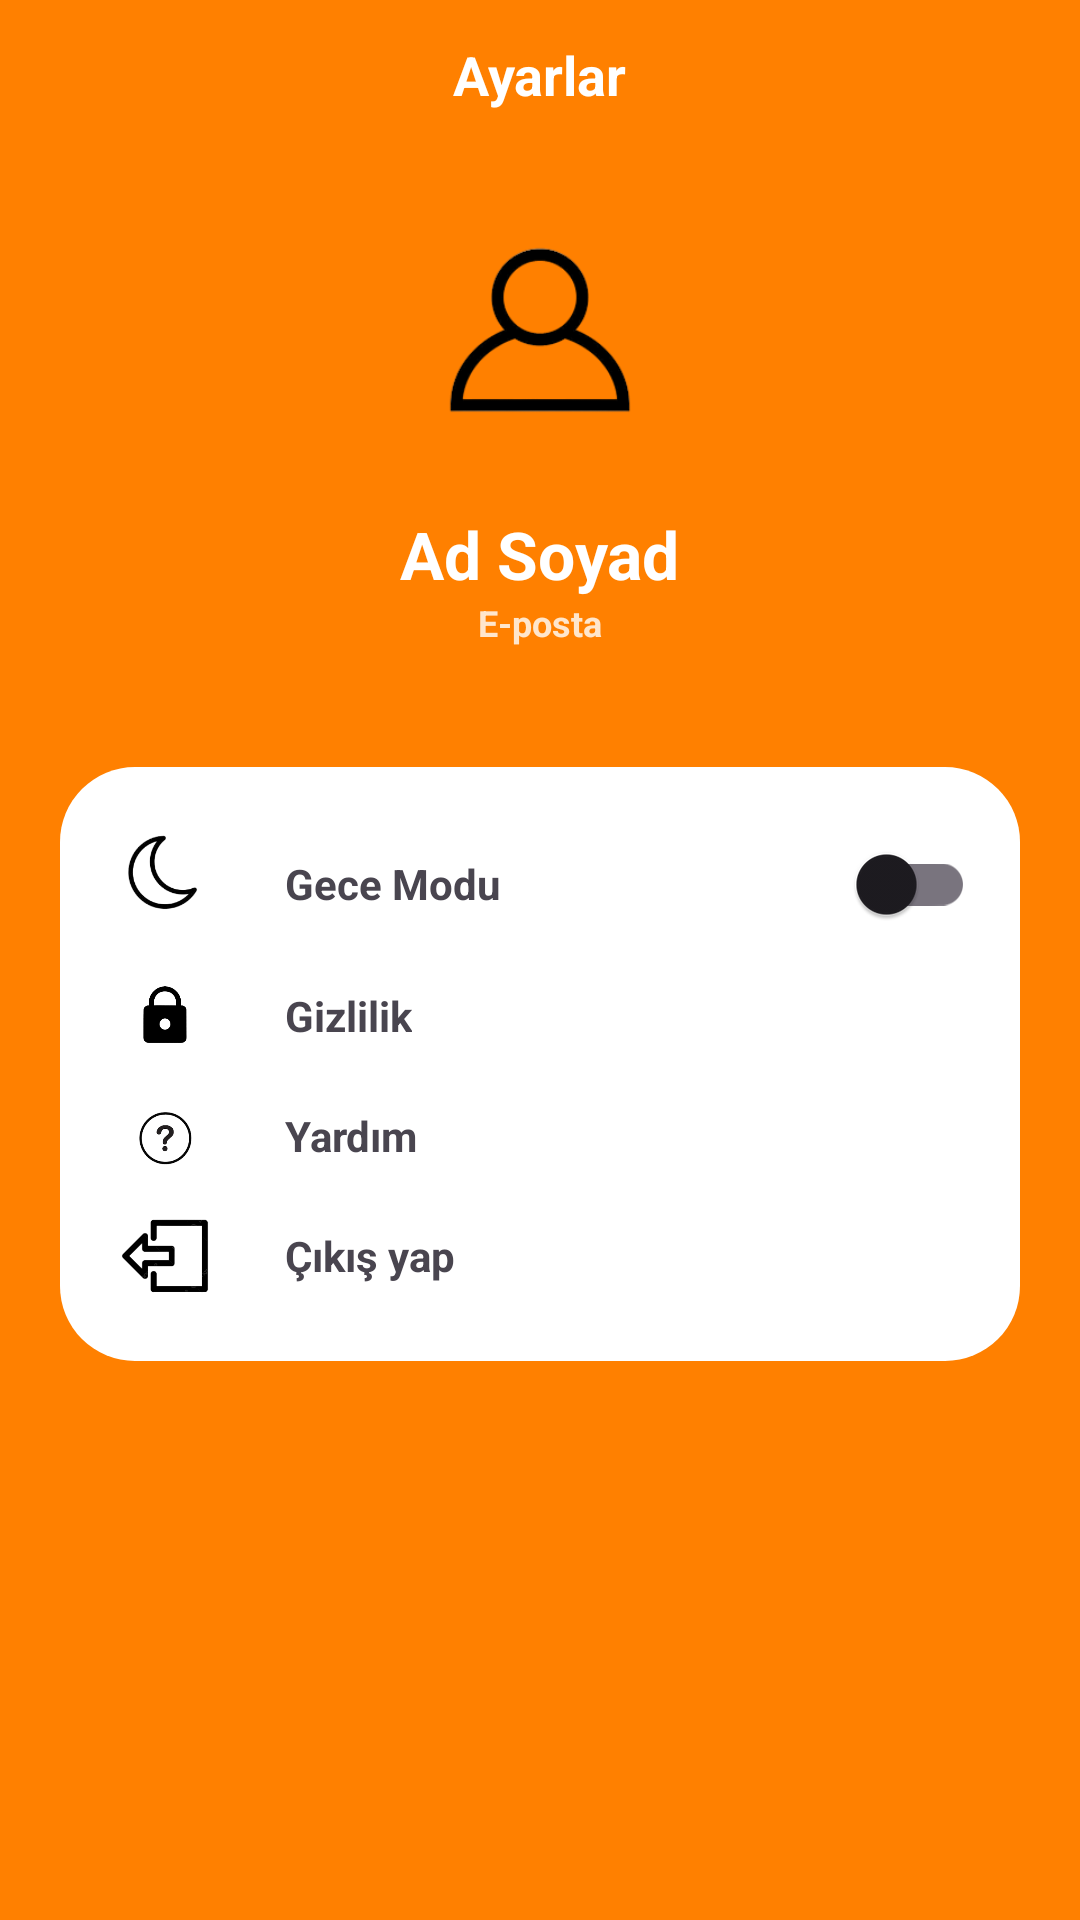

Screen size 1080x1920. Icon name, then its center in pixels as (x=x, y=y):
cik: (x=165, y=1255)
night: (x=162, y=872)
person: (x=540, y=330)
security: (x=165, y=1014)
yardim: (x=165, y=1138)
